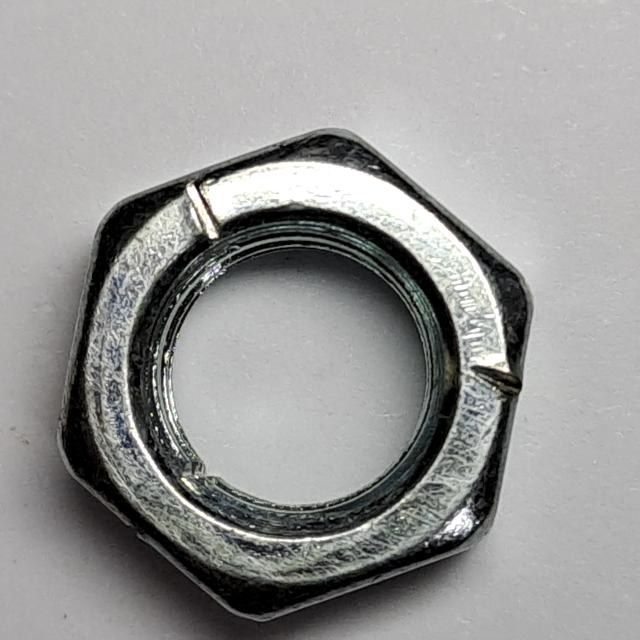Scratches: (47, 102, 557, 640)
